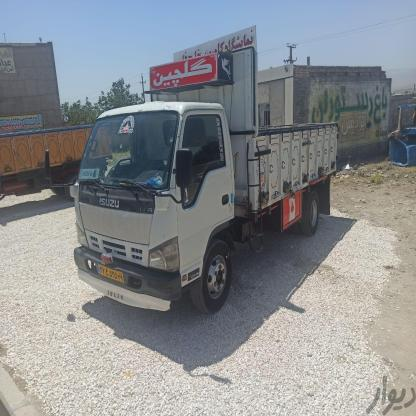Truck: (58, 49, 342, 316), (0, 104, 106, 194)
